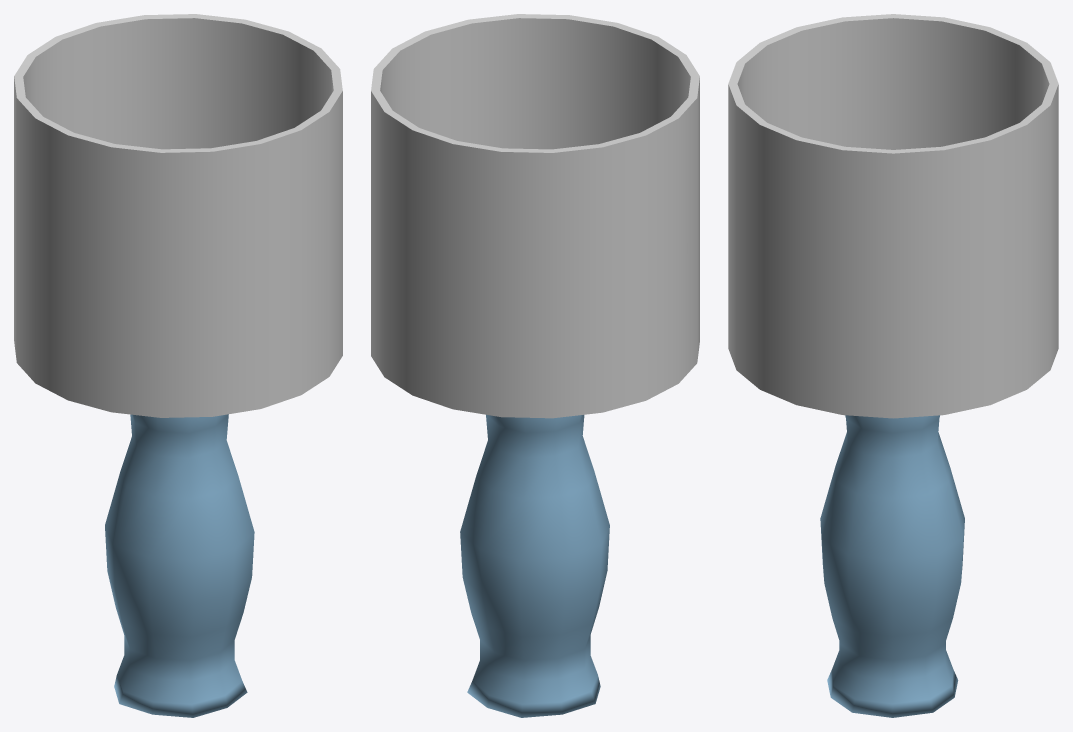
The model's file is lampwithcolor.fbx.
3 views of the same model, side by side, from view 1: azimuth 30°, elevation 25°; view 2: azimuth 150°, elevation 25°; view 3: azimuth 270°, elevation 25° (orthographic).
Parts seen in each view (by area): view 1: pPipe1, pCylinder6; view 2: pPipe1, pCylinder6; view 3: pPipe1, pCylinder6.
Boxes of the visible parts, left/top/right/bottom form: pPipe1: left=14, top=14, right=342, bottom=417; pCylinder6: left=105, top=414, right=254, bottom=717; pPipe1: left=371, top=14, right=699, bottom=418; pCylinder6: left=460, top=414, right=609, bottom=717; pPipe1: left=728, top=14, right=1058, bottom=418; pCylinder6: left=820, top=415, right=964, bottom=717.
Bounding box in the file's own units: 3.56 × 7.2 × 3.56.
